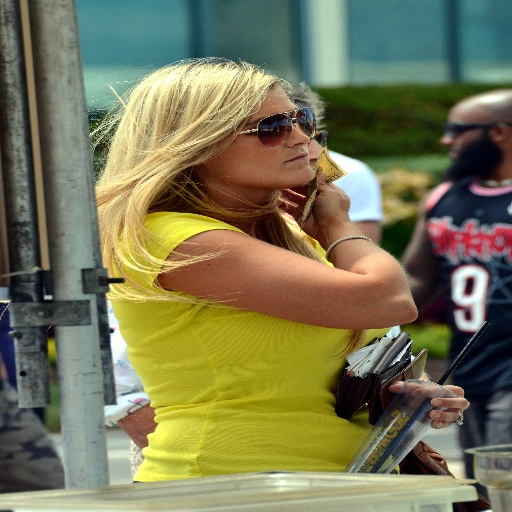hand: (369, 373, 473, 450), (273, 163, 353, 242), (117, 401, 157, 448)
